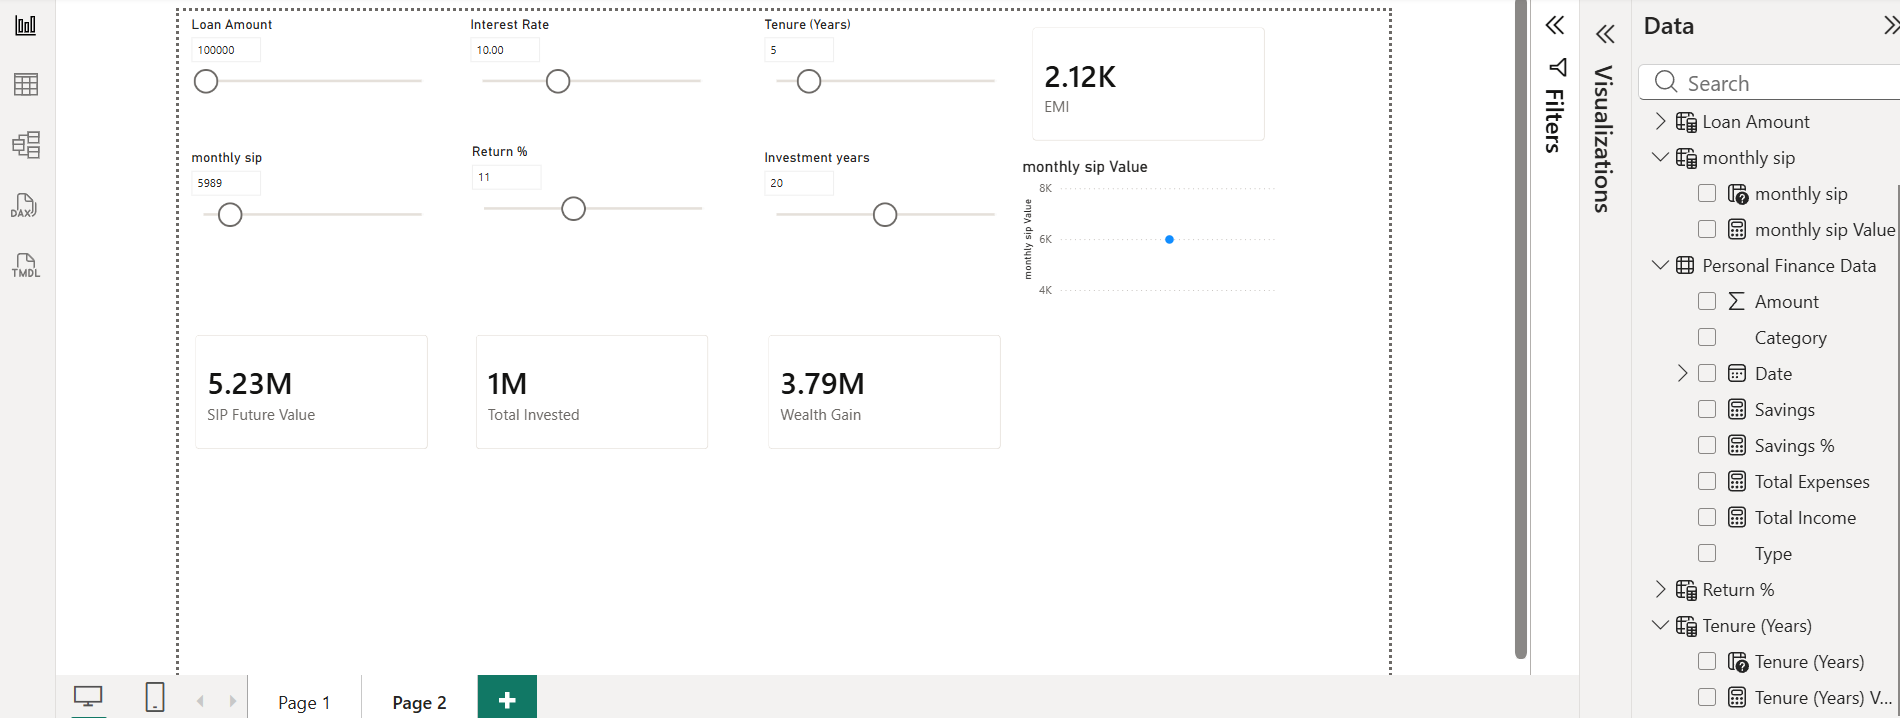

This screenshot's page, from the dashboard's own definition file:
{"tool":"powerbi","page":{"name":"Page 2","canvas":[1280,720],"ordinal":1},"visuals":[{"type":"slicer","fields":{"Values":["Interest Rate .Interest Rate "]},"box":[296,0,280,154],"z":0},{"type":"slicer","fields":{"Values":["Tenure (Years).Tenure (Years)"]},"box":[606,0,280,154],"z":1000},{"type":"cardVisual","fields":{"Data":["Interest Rate .EMI"]},"box":[886,0,280,154],"z":2000},{"type":"slicer","fields":{"Values":["Loan Amount.Loan Amount"]},"box":[0,0,280,154],"z":3000},{"type":"slicer","fields":{"Values":["Investment years.Investment years"]},"box":[606.7,141.7,280,218.3],"z":4000},{"type":"slicer","fields":{"Values":["monthly sip.monthly sip"]},"box":[0,141.7,280,206.7],"z":5000},{"type":"slicer","fields":{"Values":["Return %.Return %"]},"box":[296.7,135,280,218.3],"z":6000},{"type":"cardVisual","fields":{"Data":["Interest Rate .SIP Future Value"]},"box":[0,325,280,155],"z":7000},{"type":"cardVisual","fields":{"Data":["Interest Rate .Total Invested"]},"box":[296.7,325,280,155],"z":8000},{"type":"cardVisual","fields":{"Data":["Interest Rate .Wealth Gain"]},"box":[606.7,325,280,155],"z":9000},{"type":"lineChart","fields":{"Y":["monthly sip.monthly sip Value"]},"box":[886.7,153.3,280,155],"z":10000}]}

Visuals, with their boxes on the page's 1280x720 design canvas (x1, y1, x2, y2). These are canvas units, not pixel positions in the 1900x718 screenshot, which may show the page scaled, cropped or inside an application window:
slicer - Interest Rate .Interest Rate : x1=296, y1=0, x2=576, y2=154
slicer - Tenure (Years).Tenure (Years): x1=606, y1=0, x2=886, y2=154
cardVisual - Interest Rate .EMI: x1=886, y1=0, x2=1166, y2=154
slicer - Loan Amount.Loan Amount: x1=0, y1=0, x2=280, y2=154
slicer - Investment years.Investment years: x1=607, y1=142, x2=887, y2=360
slicer - monthly sip.monthly sip: x1=0, y1=142, x2=280, y2=348
slicer - Return %.Return %: x1=297, y1=135, x2=577, y2=353
cardVisual - Interest Rate .SIP Future Value: x1=0, y1=325, x2=280, y2=480
cardVisual - Interest Rate .Total Invested: x1=297, y1=325, x2=577, y2=480
cardVisual - Interest Rate .Wealth Gain: x1=607, y1=325, x2=887, y2=480
lineChart - monthly sip.monthly sip Value: x1=887, y1=153, x2=1167, y2=308
